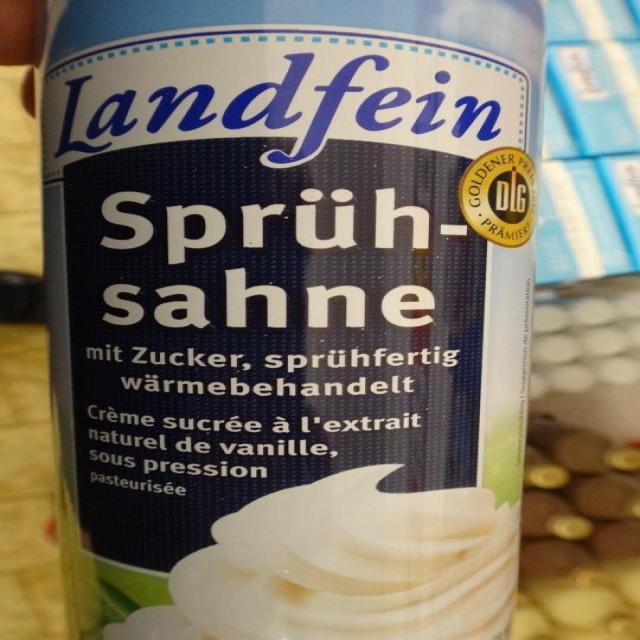cream: (36, 0, 545, 638)
